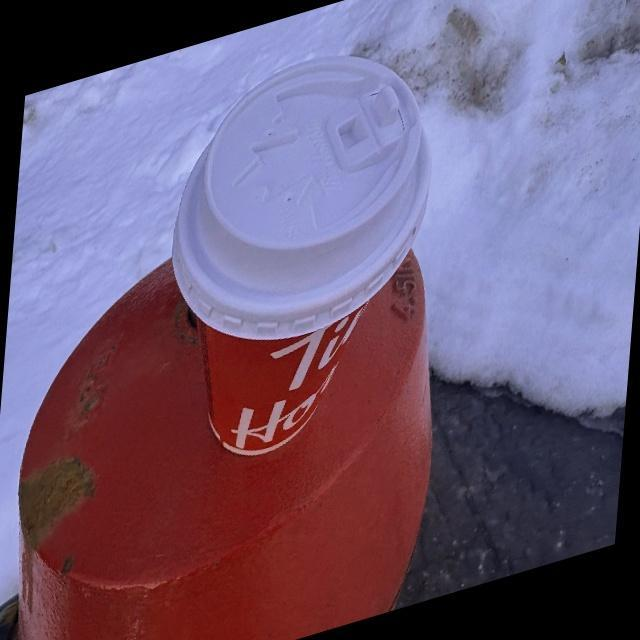timmies: (151, 48, 447, 492)
